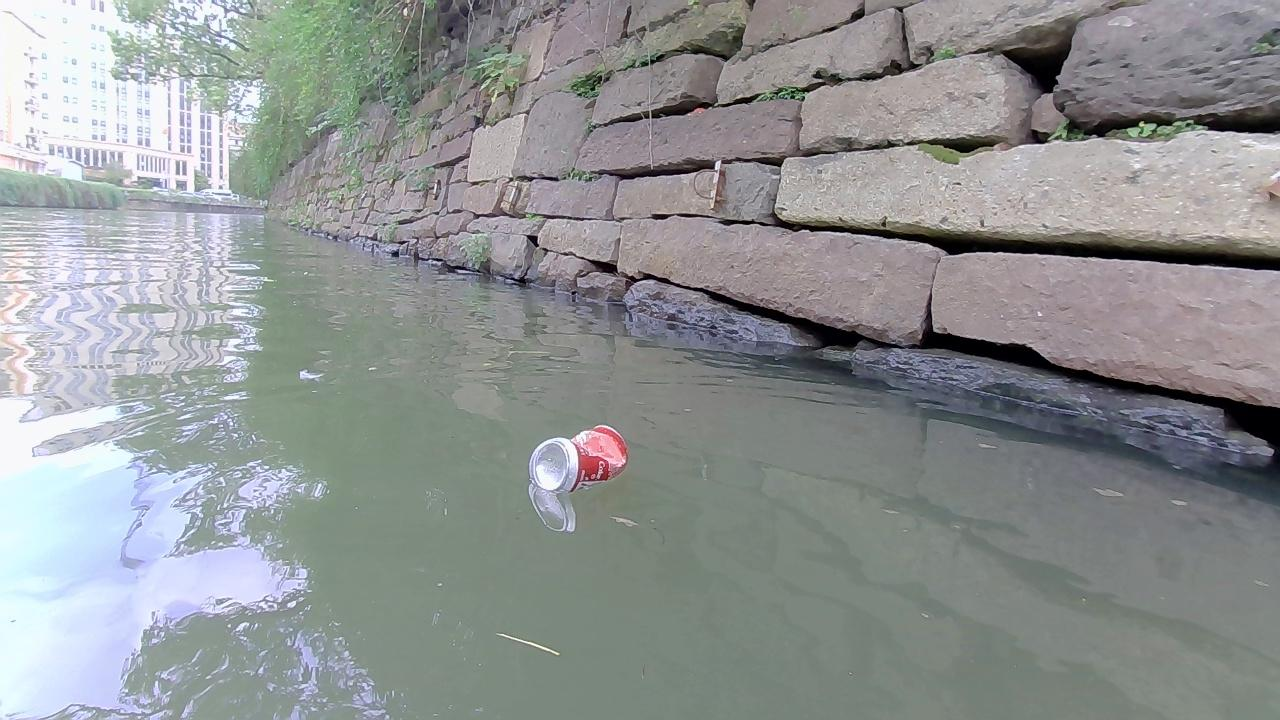Metal: (527, 422, 630, 495)
